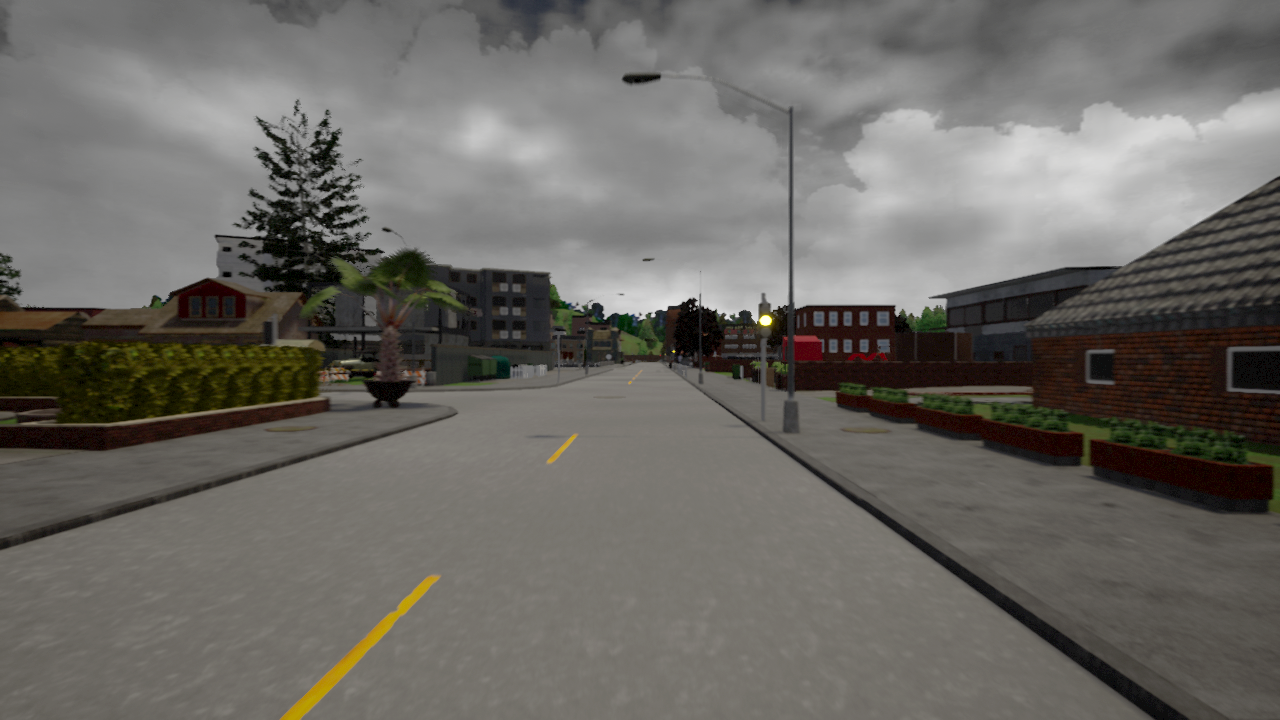yellow: (757, 300, 773, 339)
